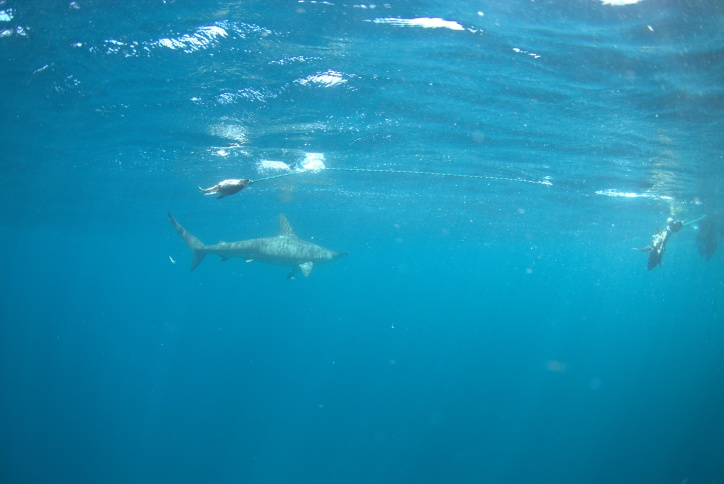Hammer: (164, 205, 364, 292)
